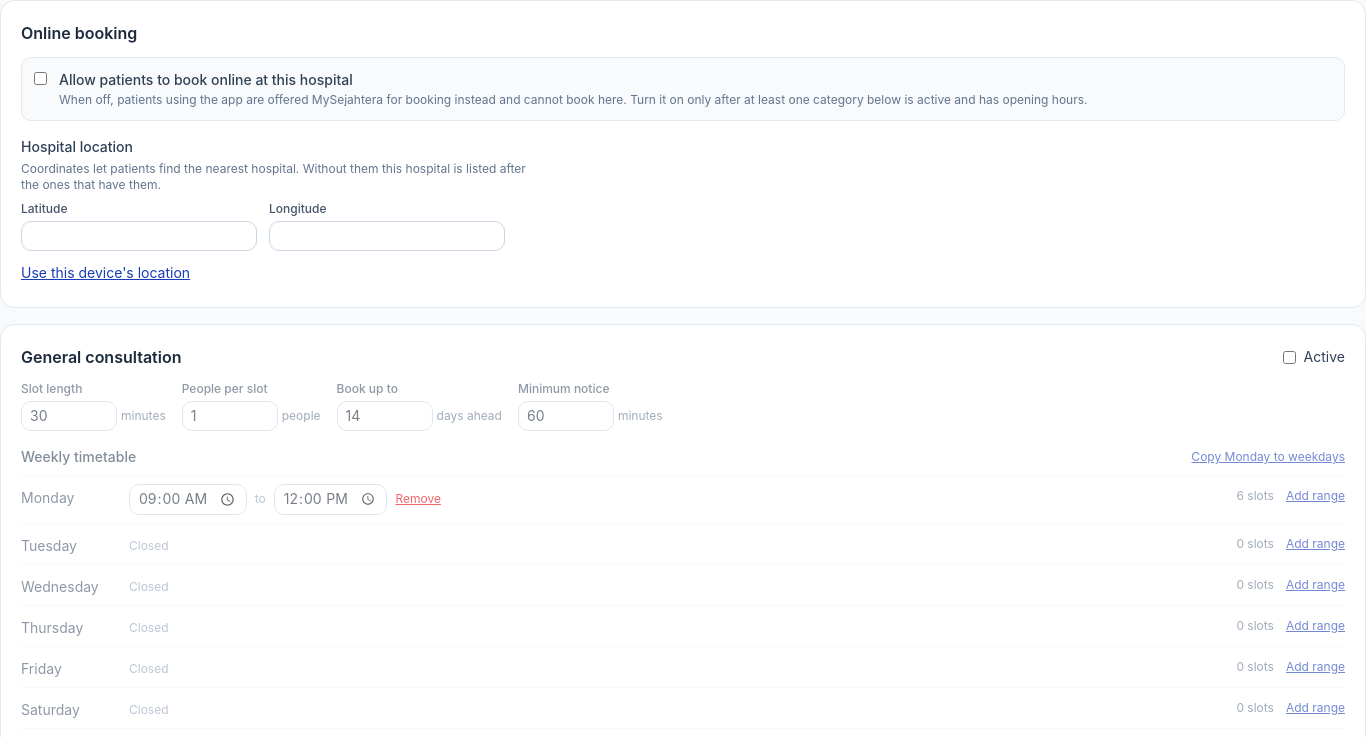
Test: OnlineBookingTab › handles a denied geolocation request gracefully
Check: the text "Hospital location" is shown, box [21, 137, 133, 157]
Click the button "Use this device's location" at (106, 275), box [21, 263, 190, 287]
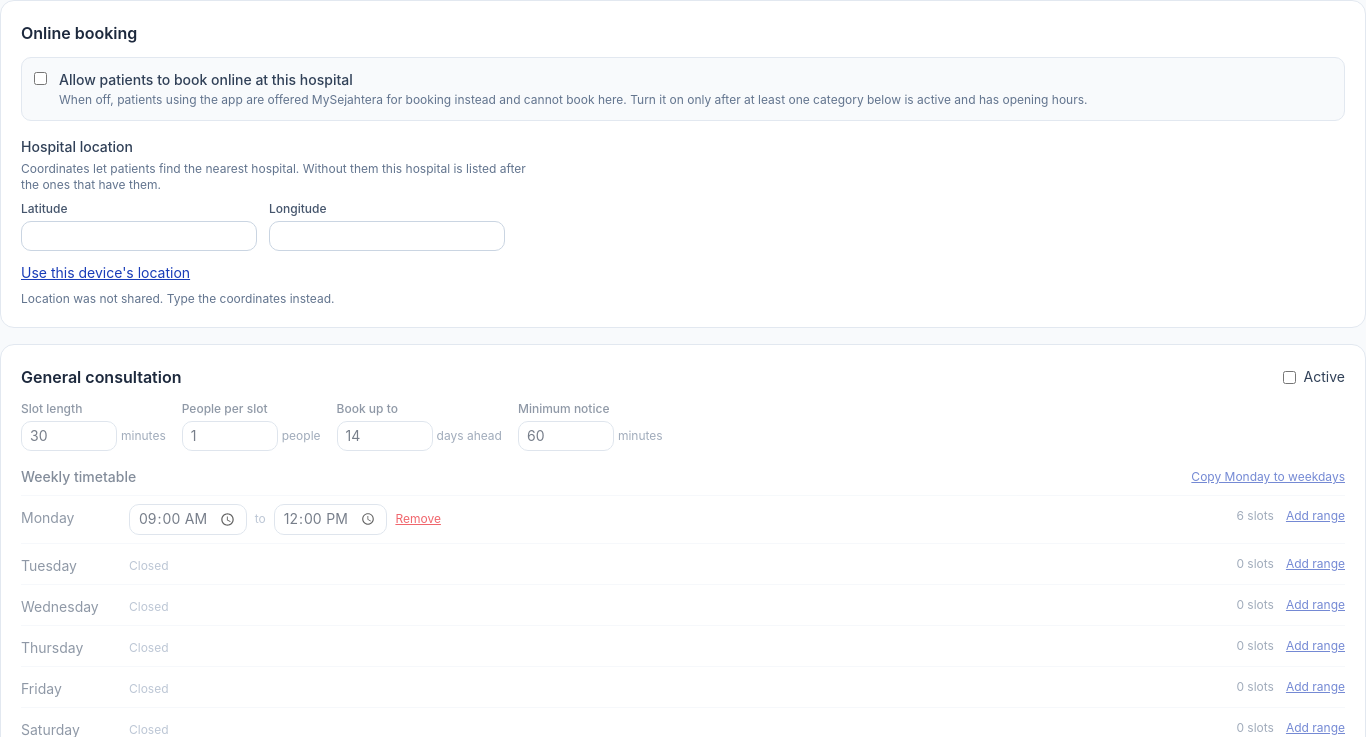
Check: the field labelled "Latitude" is empty, box [21, 221, 257, 251]
Check: the text "Location was not shared. Type the coordinates instead." is shown, box [21, 291, 334, 306]
